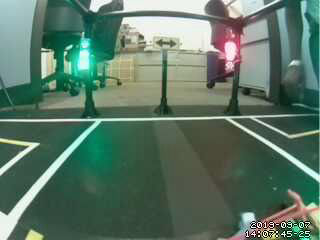Left_Right_sign: (149, 33, 183, 53)
Traffic_light_green: (77, 32, 89, 79)
Traffic_light_red: (220, 38, 244, 74)
